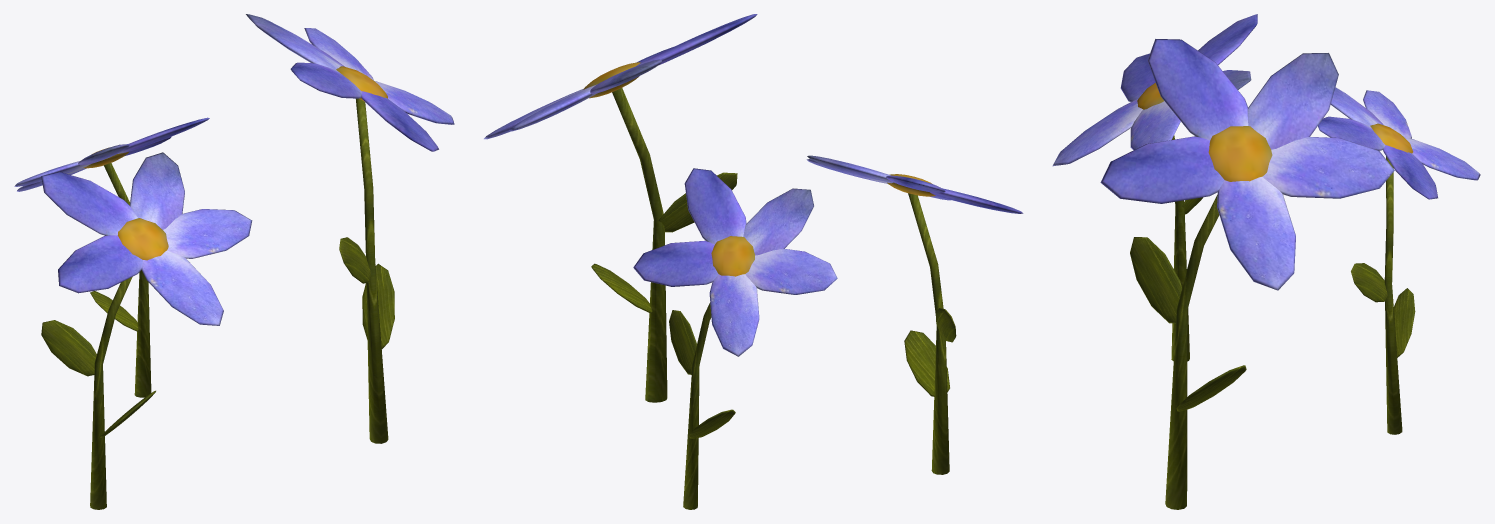
The model's file is purpleFlower_fbx.fbx.
3 views of the same model, side by side, from view 1: azimuth 30°, elevation 25°; view 2: azimuth 150°, elevation 25°; view 3: azimuth 270°, elevation 25° (orthographic). The views are drawn at different scales.
Parts seen in each view (by area): view 1: Mesh; view 2: Mesh; view 3: Mesh.
Part boxes in pixels (x1,y1,x2,y2): Mesh: (14, 14, 454, 509); Mesh: (484, 14, 1023, 509); Mesh: (1052, 14, 1480, 509).
Size of the model in its own units: 18.61 by 15.11 by 13.95.
